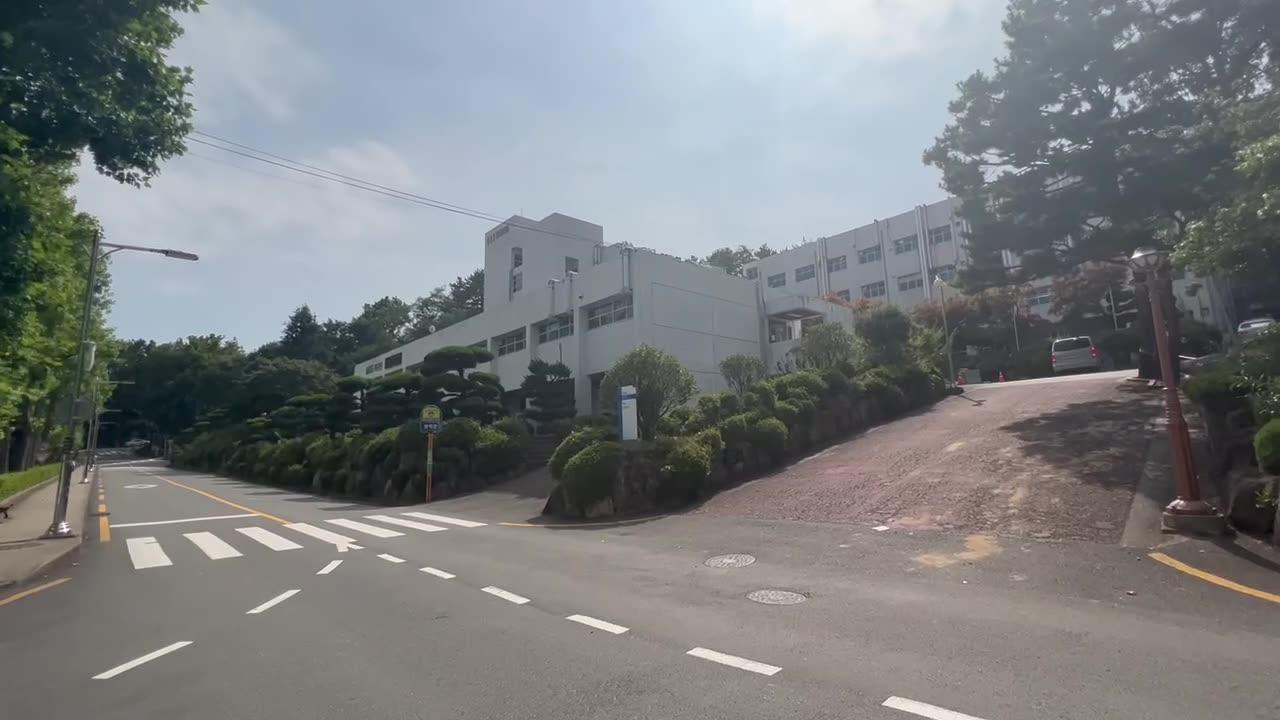building: (349, 199, 767, 374)
